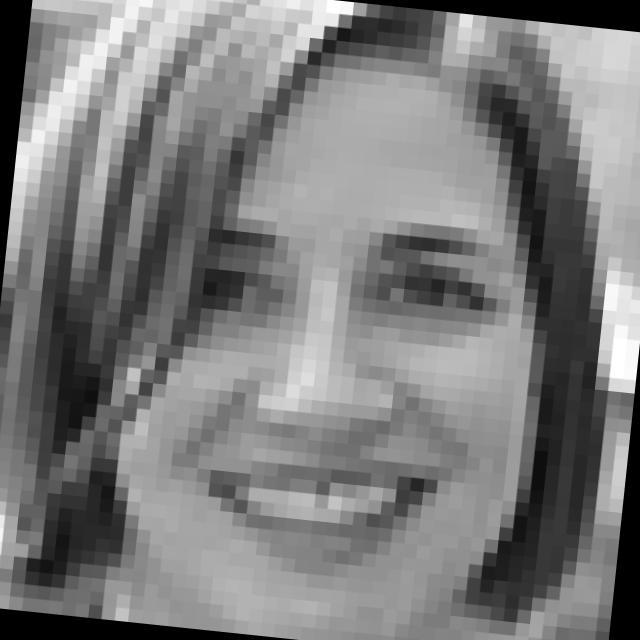happy: (161, 200, 520, 602)
